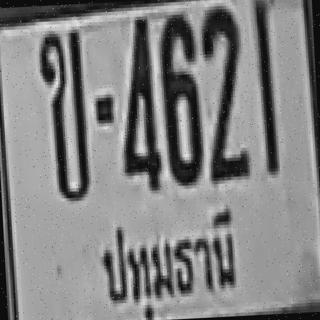A02: (36, 26, 88, 193)
N02: (200, 7, 244, 157), (199, 4, 243, 148)
N04: (115, 21, 160, 190)
N06: (157, 12, 202, 182)
P38: (82, 205, 245, 320)
